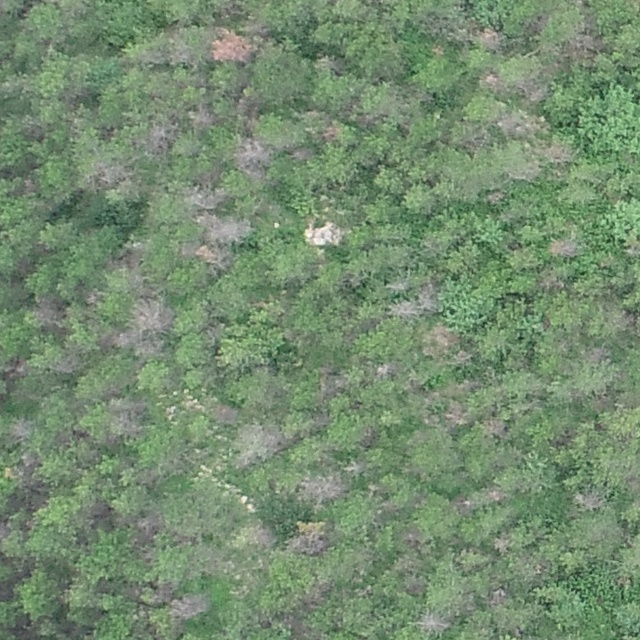unhealthy: (235, 423, 287, 465), (230, 135, 273, 177), (208, 27, 256, 64), (298, 471, 349, 504), (131, 297, 175, 333), (287, 523, 333, 557), (82, 159, 134, 189), (199, 215, 252, 244), (106, 398, 145, 437), (495, 109, 545, 138), (561, 26, 602, 61), (168, 591, 211, 620), (184, 184, 227, 212), (145, 117, 177, 154), (189, 244, 227, 275), (30, 294, 62, 329), (316, 366, 348, 398), (515, 75, 548, 105), (424, 323, 459, 351), (300, 579, 331, 608), (164, 36, 195, 65), (542, 139, 574, 165), (417, 610, 453, 633), (244, 522, 275, 548), (104, 328, 139, 351), (572, 488, 604, 512), (417, 280, 439, 314), (476, 26, 504, 52), (548, 236, 580, 258), (443, 402, 469, 429), (135, 510, 164, 534), (51, 352, 81, 375), (190, 105, 217, 130), (210, 400, 238, 424), (478, 70, 505, 94), (315, 53, 344, 75), (389, 297, 418, 319), (537, 269, 563, 293), (8, 417, 34, 441), (583, 344, 611, 366), (618, 308, 640, 335), (141, 333, 169, 354), (483, 416, 508, 438), (373, 360, 398, 379), (487, 587, 509, 608), (481, 485, 506, 502), (493, 534, 511, 553), (452, 350, 471, 366), (387, 279, 408, 293), (0, 519, 9, 540)
